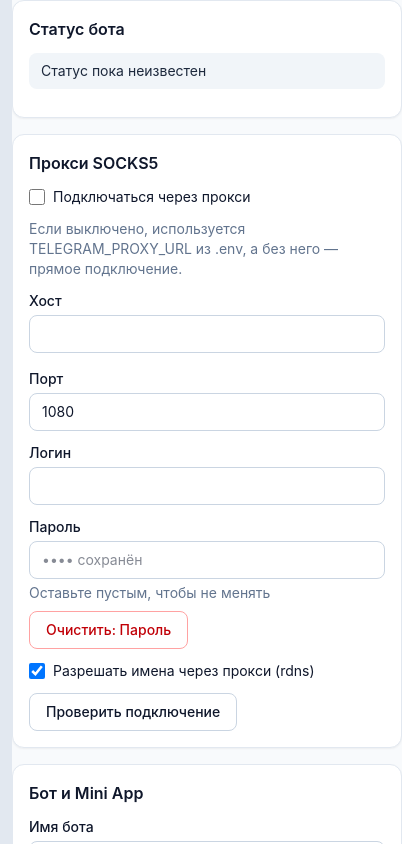
Test case: настройки прокси › после неудачной проверки сохраняет только с подтверждением
Later steps or results of the test are not shown.
In the field labelled "Хост": coordinates (207, 334) x1=29 y1=315 x2=385 y2=353, type "proxy.example"
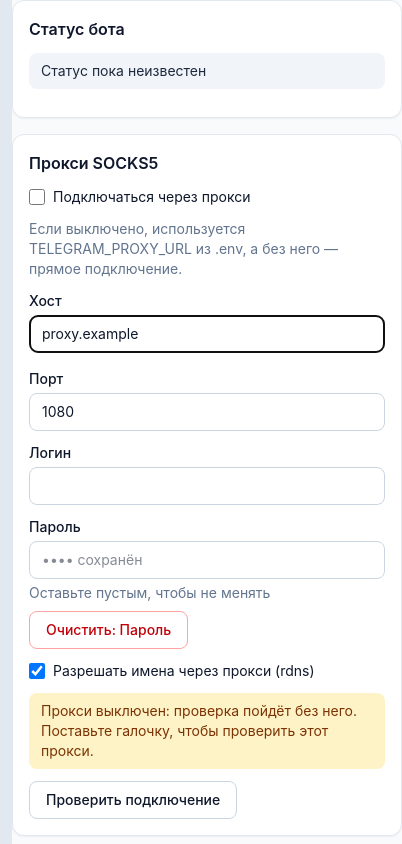
Click the button "Проверить подключение": coordinates (133, 800) x1=29 y1=781 x2=237 y2=819
(page scrolled)
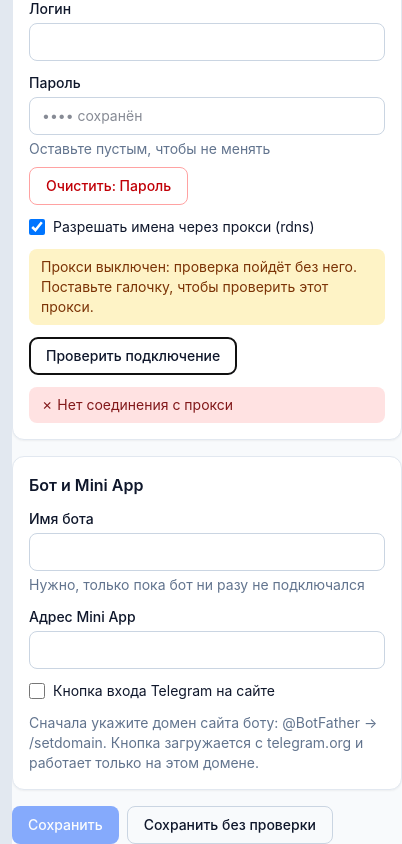
expect the button "Сохранить" is disabled: met, box x1=12 y1=806 x2=119 y2=843
expect the text "✗ Нет соединения с прокси" is shown: met, box x1=29 y1=387 x2=385 y2=423
